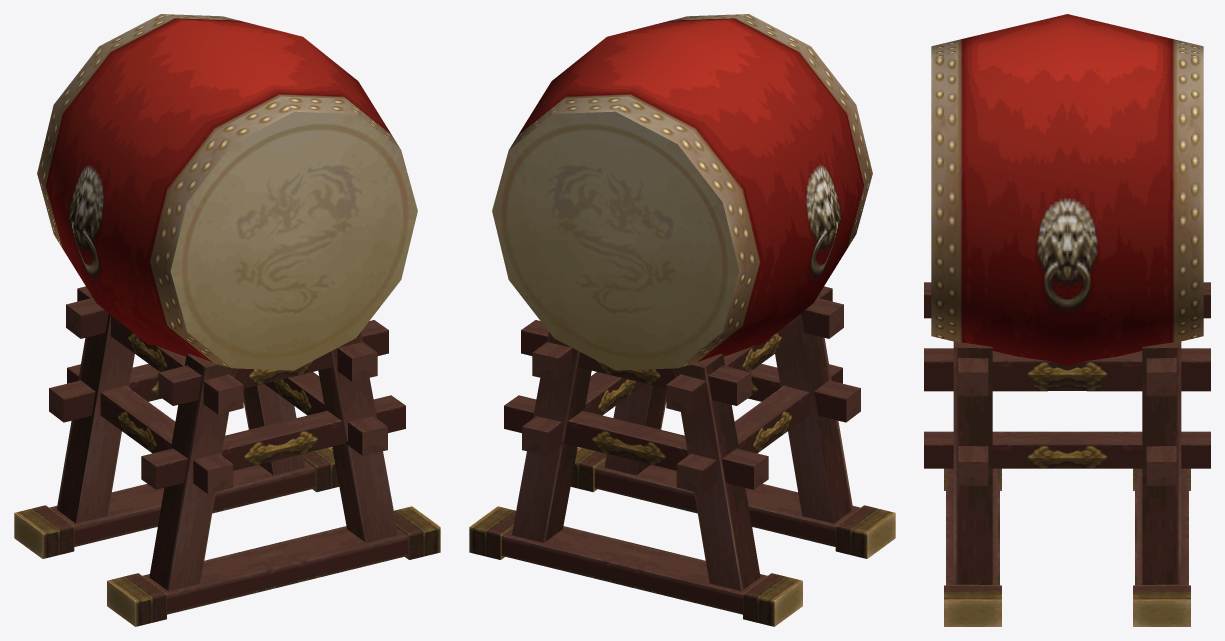
The model's file is Item_3001_dimianwujian_gu01.FBX.
3 views of the same model, side by side, from view 1: azimuth 30°, elevation 25°; view 2: azimuth 150°, elevation 25°; view 3: azimuth 270°, elevation 25° (orthographic).
Parts seen in each view (by area): view 1: Item_3001_dimianwujian_gu01; view 2: Item_3001_dimianwujian_gu01; view 3: Item_3001_dimianwujian_gu01.
Boxes of the visible parts, box(x1,y1,x2,y2) form: Item_3001_dimianwujian_gu01: box(14, 14, 440, 626); Item_3001_dimianwujian_gu01: box(469, 14, 895, 626); Item_3001_dimianwujian_gu01: box(924, 14, 1210, 626).
Bounding box in the file's own units: 102 × 164 × 81.7.
